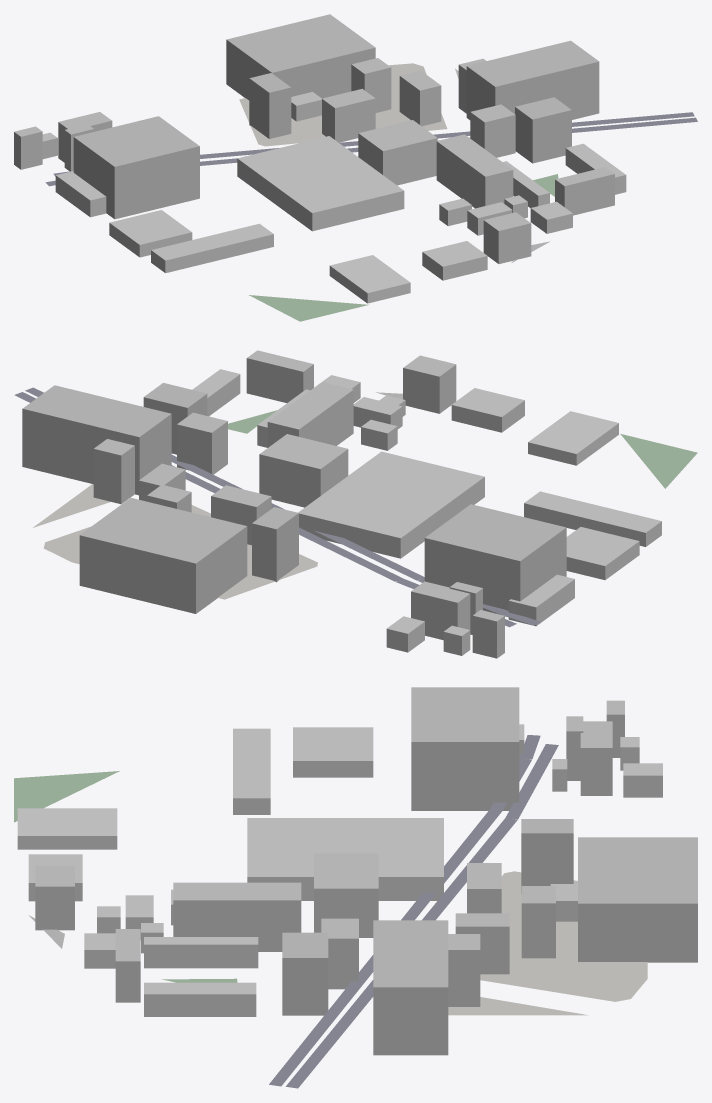
Rendered from 130_111_mid.glb.
3 views of the same model, one above another, from view 1: azimuth 30°, elevation 25°; view 2: azimuth 150°, elevation 25°; view 3: azimuth 270°, elevation 25° (orthographic). The views are drawn at different scales.
Bounding box in the file's own units: 666 × 61.88 × 540.
